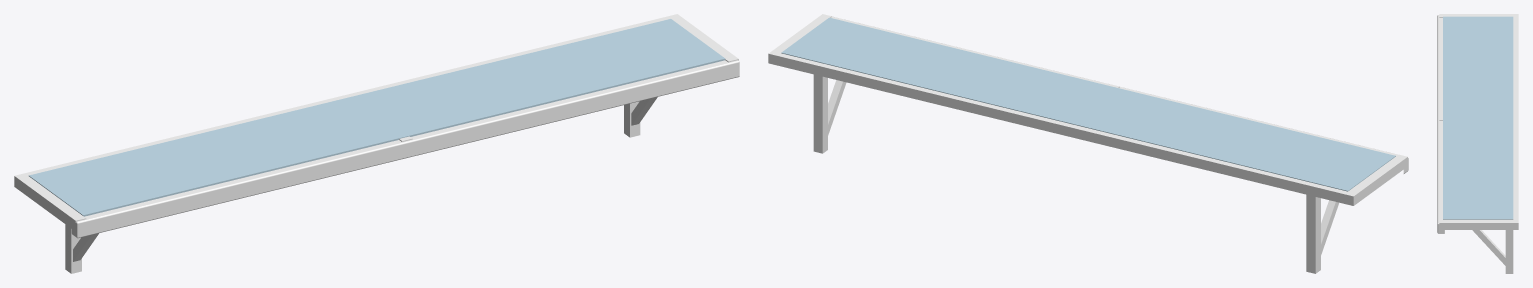
The model's file is DowntownServiceDetail.glb.
3 views of the same model, side by side, from view 1: azimuth 30°, elevation 25°; view 2: azimuth 150°, elevation 25°; view 3: azimuth 270°, elevation 25° (orthographic). The views are drawn at different scales.
Visible parts, largest first — view 1: Glass, Body; view 2: Glass, Body; view 3: Glass, Body.
Part boxes in pixels (x1=…): Glass: x1=28, y1=19, x2=725, y2=216; Body: x1=14, y1=14, x2=739, y2=273; Glass: x1=781, y1=17, x2=1395, y2=191; Body: x1=768, y1=14, x2=1408, y2=273; Glass: x1=1443, y1=16, x2=1513, y2=219; Body: x1=1437, y1=14, x2=1518, y2=273.
Size of the model in its own units: 19 by 2.82 by 3.12.
